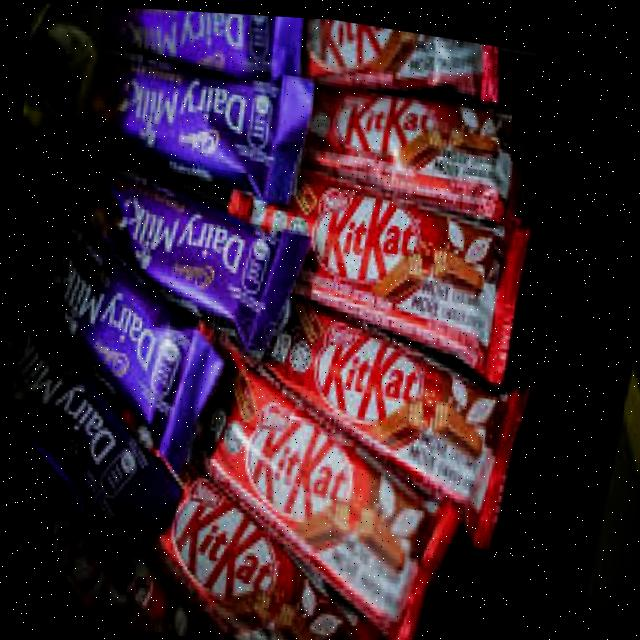kitkat: (184, 344, 474, 640), (238, 274, 537, 529), (226, 161, 532, 358), (151, 458, 385, 640), (299, 73, 530, 214), (301, 14, 502, 101)
